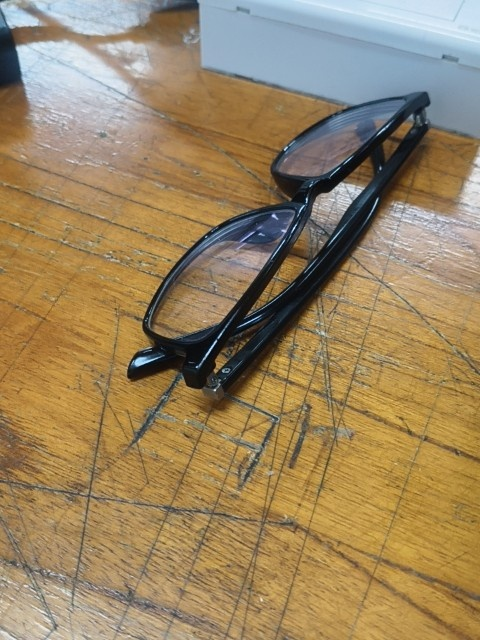glasses: (128, 89, 431, 395)
